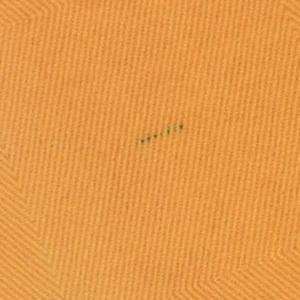stain: (133, 119, 193, 150)
